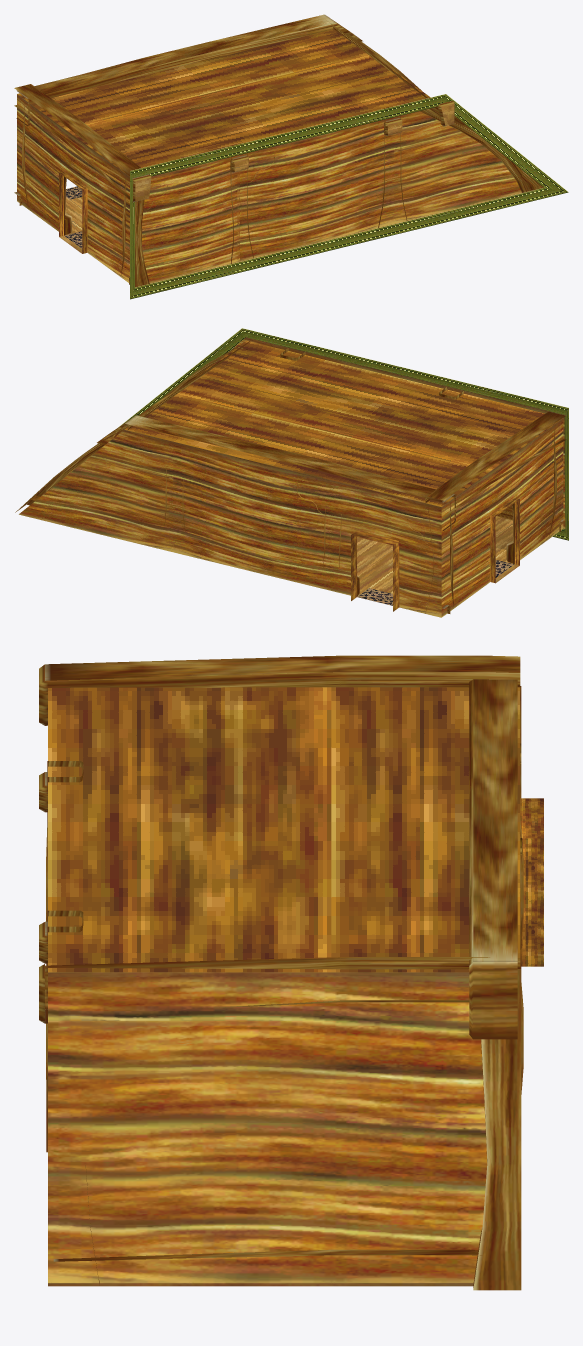
Rendered from room_52.glb.
3 views of the same model, one above another, from view 1: azimuth 30°, elevation 25°; view 2: azimuth 150°, elevation 25°; view 3: azimuth 270°, elevation 25° (orthographic). The views are drawn at different scales.
Parts seen in each view (by area): view 1: room_52; view 2: room_52; view 3: room_52.
Boxes of the visible parts, x1,y1,x2,y2 form: room_52: [14, 14, 568, 299]; room_52: [15, 328, 568, 617]; room_52: [39, 655, 543, 1290].
Size of the model in its own units: 2146 by 600 by 1069.
Materials: 17 (17 with a texture image).
